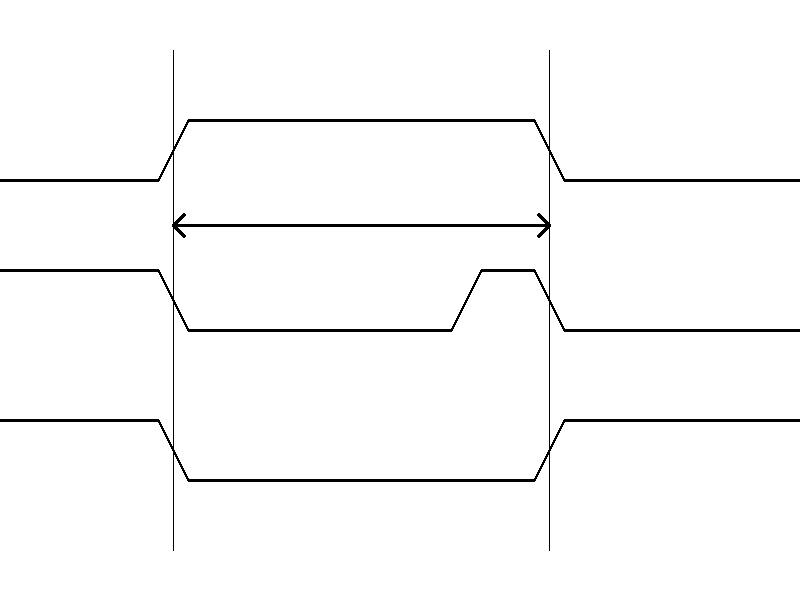double_arrow: (173, 210, 549, 240)
